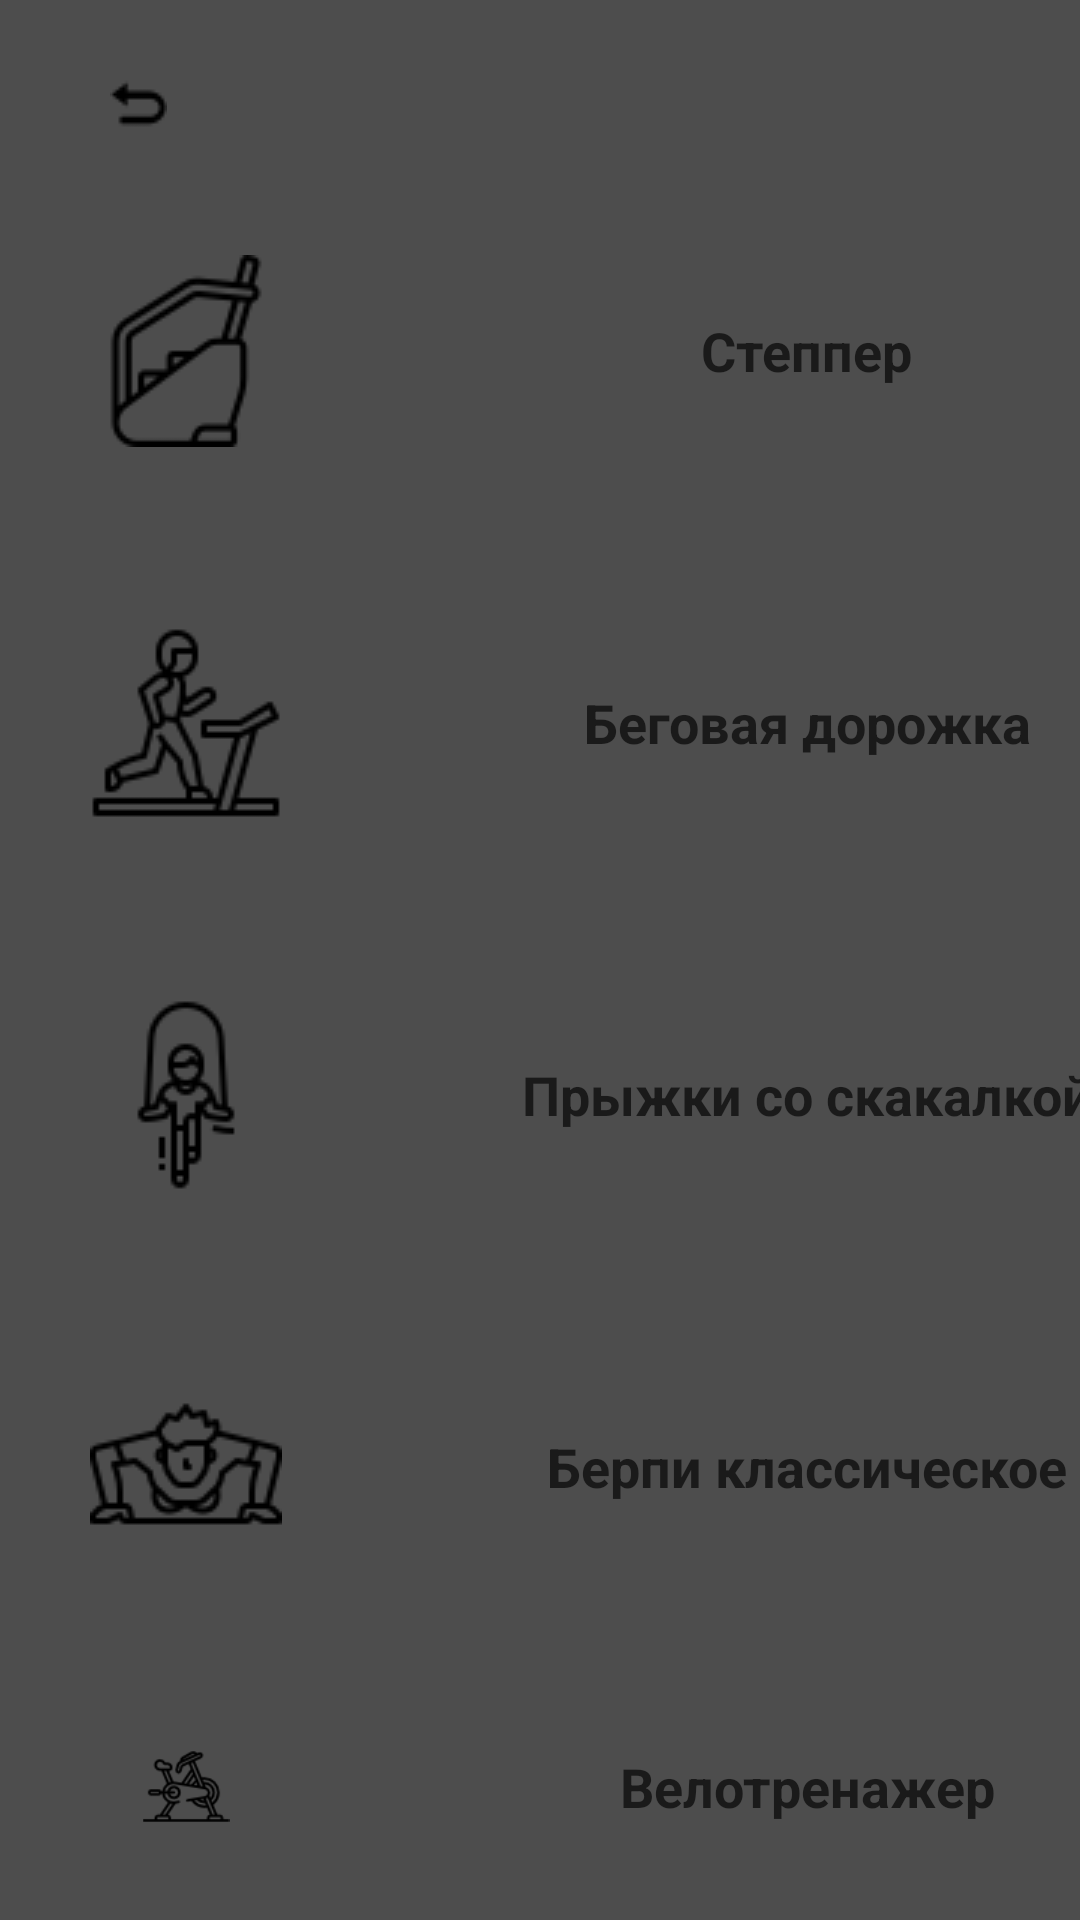

Point at icon controls on the screen. Image size 1080w x 1920h, points as point (x, y).
begovaya dorojka: point (186, 723)
berpi: point (186, 1464)
jump rope: point (186, 1094)
return: point (139, 104)
stationary bike: point (186, 1786)
stepper: point (186, 351)
